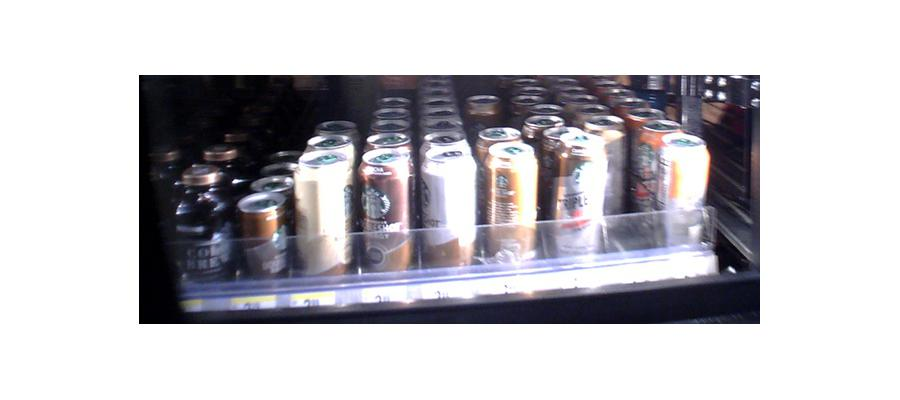bottle: (416, 126, 476, 270), (642, 119, 707, 251), (293, 131, 351, 278), (546, 126, 610, 257), (482, 131, 538, 266), (359, 136, 412, 275), (167, 165, 226, 284), (237, 186, 283, 278)
